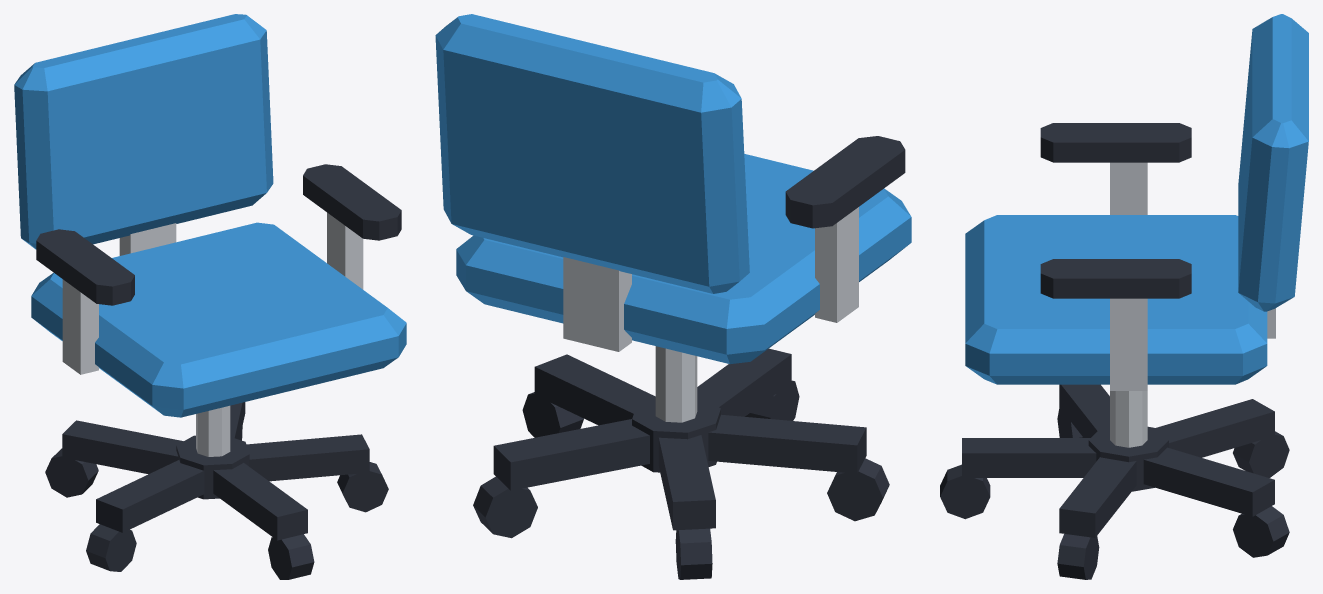
Rendered from Chair.glb.
3 renders of one model, left to right at view 1: azimuth 30°, elevation 25°; view 2: azimuth 150°, elevation 25°; view 3: azimuth 270°, elevation 25°, orthographic. The views are drawn at different scales.
Parts seen in each view (by area): view 1: main, dark, trim; view 2: main, dark, trim; view 3: main, dark, trim.
Part boxes in pixels (left/top/right/bottom): main: left=14, top=14, right=406, bottom=417; dark: left=36, top=164, right=401, bottom=579; trim: left=62, top=212, right=363, bottom=456; main: left=435, top=14, right=911, bottom=364; dark: left=473, top=136, right=905, bottom=579; trim: left=563, top=207, right=858, bottom=422; main: left=965, top=14, right=1308, bottom=384; dark: left=940, top=123, right=1289, bottom=579; trim: left=1110, top=162, right=1275, bottom=447.
Bounding box in the file's own units: 3 × 4 × 3.
